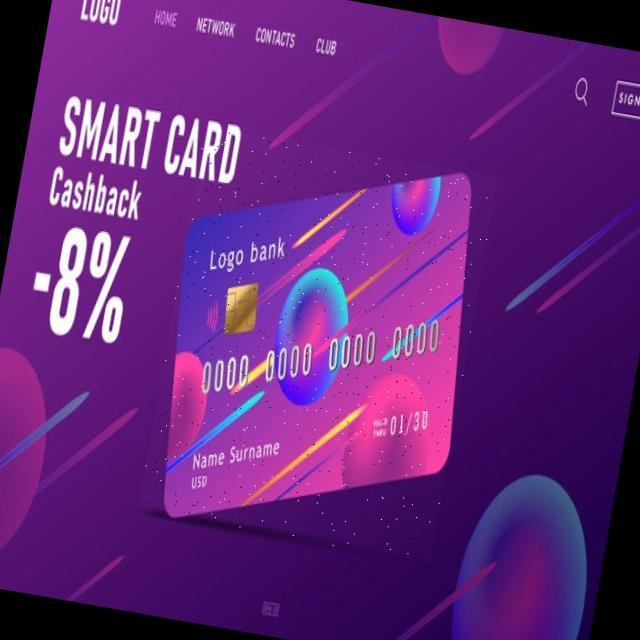payment_card: (161, 170, 472, 519)
